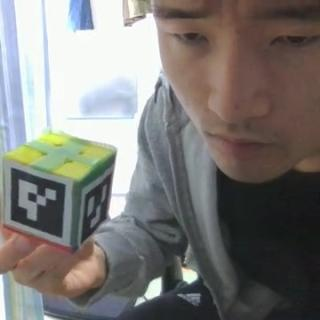armor: (4, 162, 72, 246), (77, 163, 111, 247)
robot: (0, 130, 117, 250)
